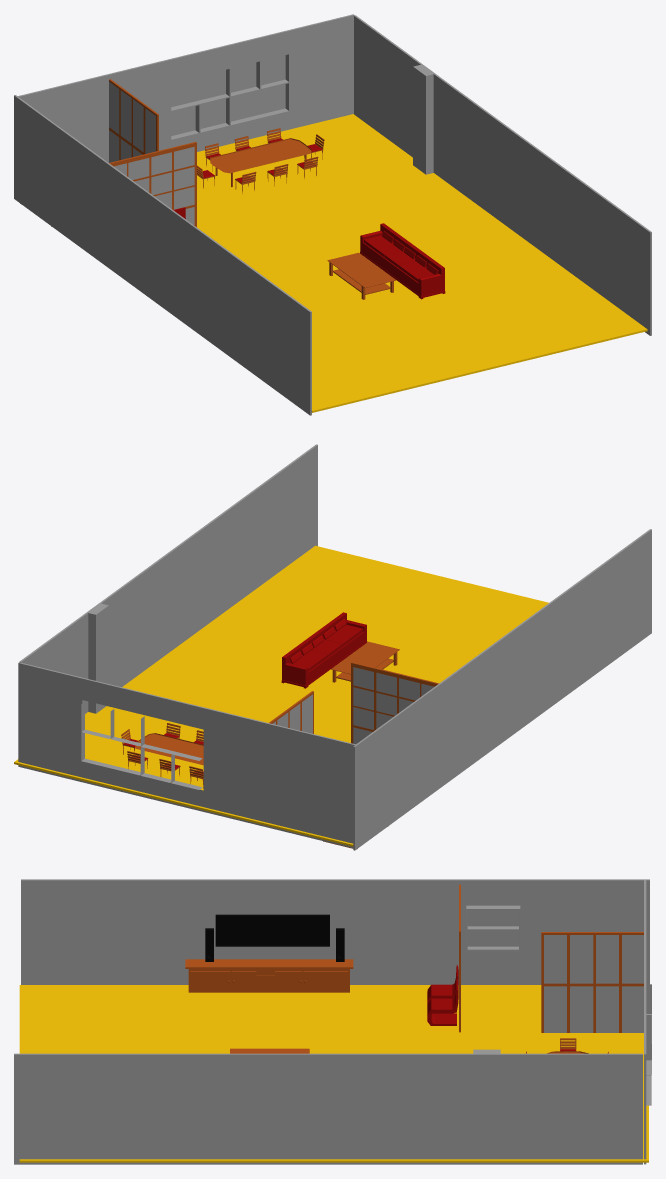
The model's file is bumpandgo.gltf.
The picture shows the model from 3 angles, top to bottom: view 1: azimuth 30°, elevation 25°; view 2: azimuth 150°, elevation 25°; view 3: azimuth 270°, elevation 25°; orthographic projection. The views are drawn at different scales.
Bounding box in the file's own units: 0.0109 × 0.00324 × 0.0167.
